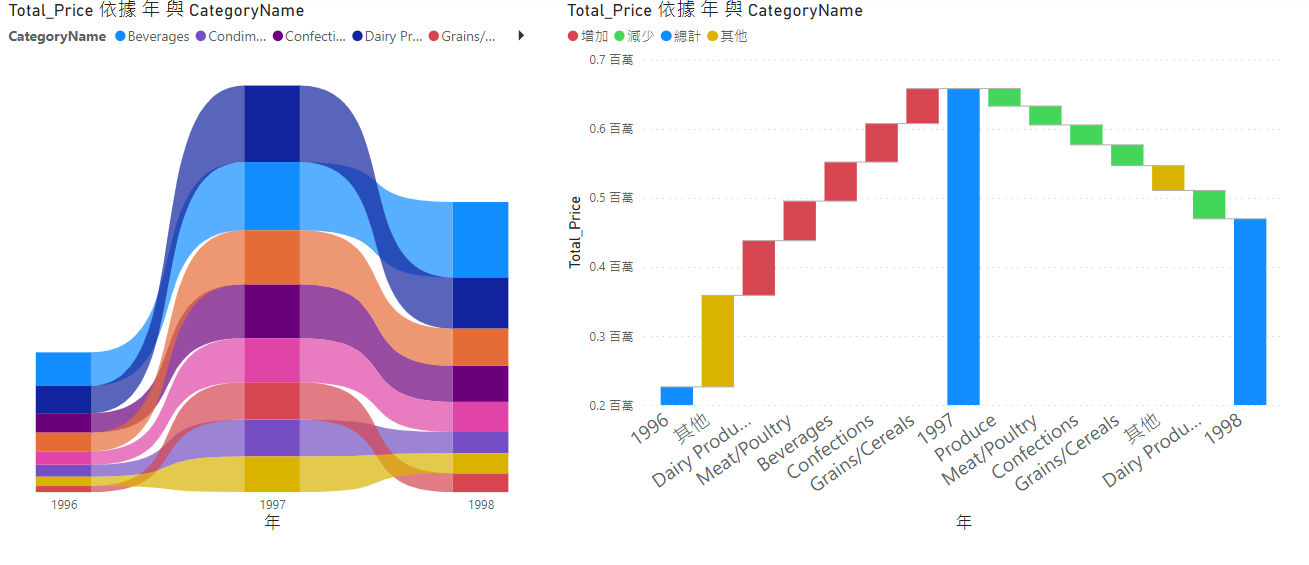

Layout of this report page (visuals, bound fields, positions):
{"tool":"powerbi","page":{"name":"緞帶/瀑布圖","canvas":[1280,720],"ordinal":3},"visuals":[{"type":"ribbonChart","fields":{"Category":["Orders.OrderDate.變化.日期階層.年","Orders.OrderDate.變化.日期階層.季","Orders.OrderDate.變化.日期階層.月","Orders.OrderDate.變化.日期階層.日"],"Y":["Sum(Order Details.Total_Price)"],"Series":["Categories.CategoryName"]},"box":[9.6,0,519.8,523.4],"z":0},{"type":"waterfallChart","fields":{"Y":["Sum(Order Details.Total_Price)"],"Breakdown":["Categories.CategoryName"],"Category":["Orders.OrderDate.變化.日期階層.年"]},"box":[548.7,0,700.7,523.4],"z":1000}]}

Visuals, with their boxes on the page's 1280x720 design canvas (x1, y1, x2, y2). These are canvas units, not pixel positions in the 1309x565 screenshot, which may show the page scaled, cropped or inside an application window:
ribbonChart - Orders.OrderDate.變化.日期階層.年 x Orders.OrderDate.變化.日期階層.季: detection(10, 0, 529, 523)
waterfallChart - Sum(Order Details.Total_Price) x Categories.CategoryName: detection(549, 0, 1249, 523)
